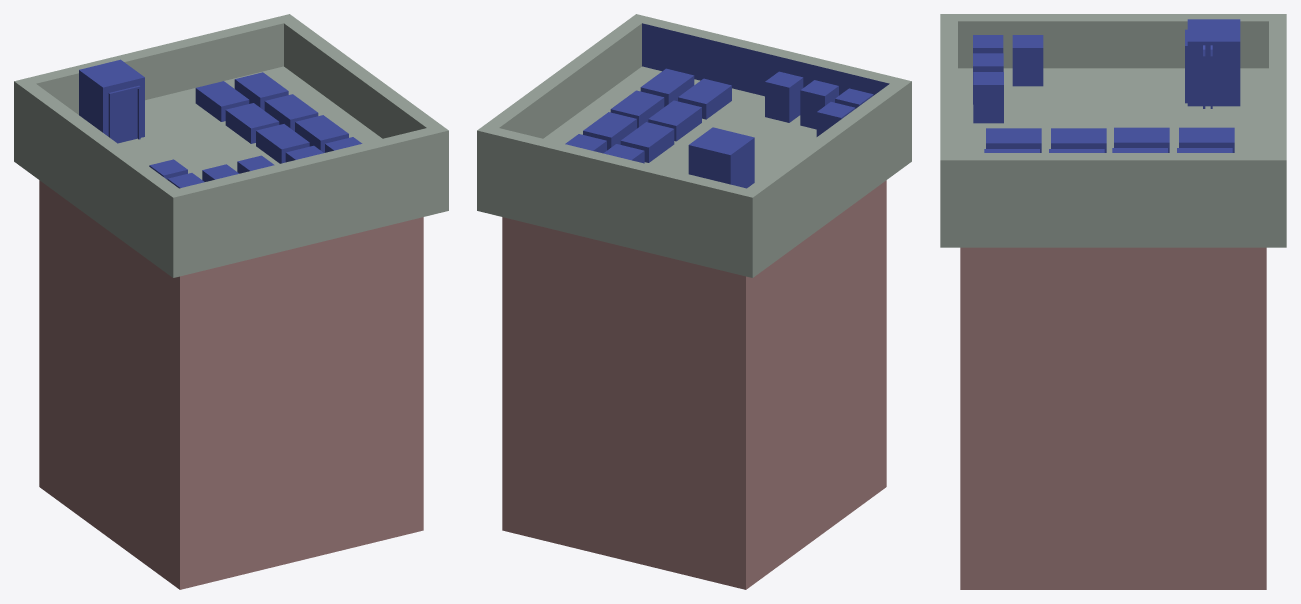
The model's file is Building_B2.fbx.
The picture shows the model from 3 angles, left to right: view 1: azimuth 30°, elevation 25°; view 2: azimuth 150°, elevation 25°; view 3: azimuth 270°, elevation 25°; orthographic projection. The views are drawn at different scales.
Parts seen in each view (by area): view 1: BuildingA11; view 2: BuildingA11; view 3: BuildingA11.
Boxes of the visible parts, x1,y1,x2,y2 form: BuildingA11: (14,14,448,589); BuildingA11: (477,14,911,589); BuildingA11: (940,14,1286,589).
Size of the model in its own units: 6.81 by 9.89 by 6.81.
